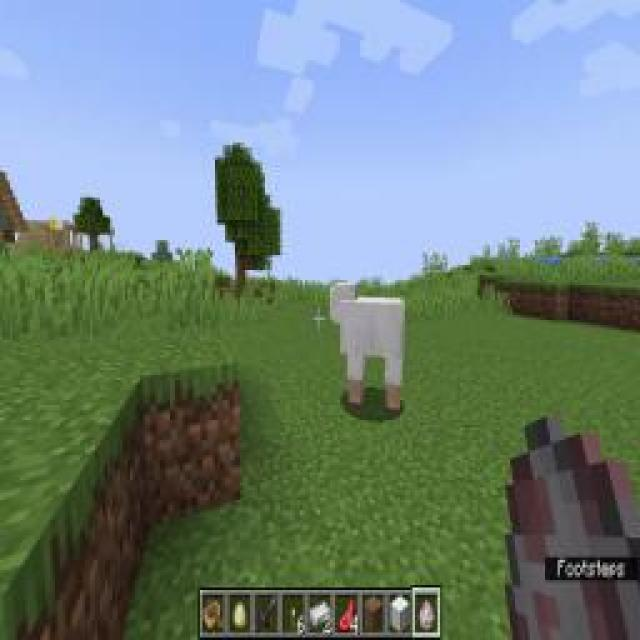Sheep: (326, 280, 406, 420)
